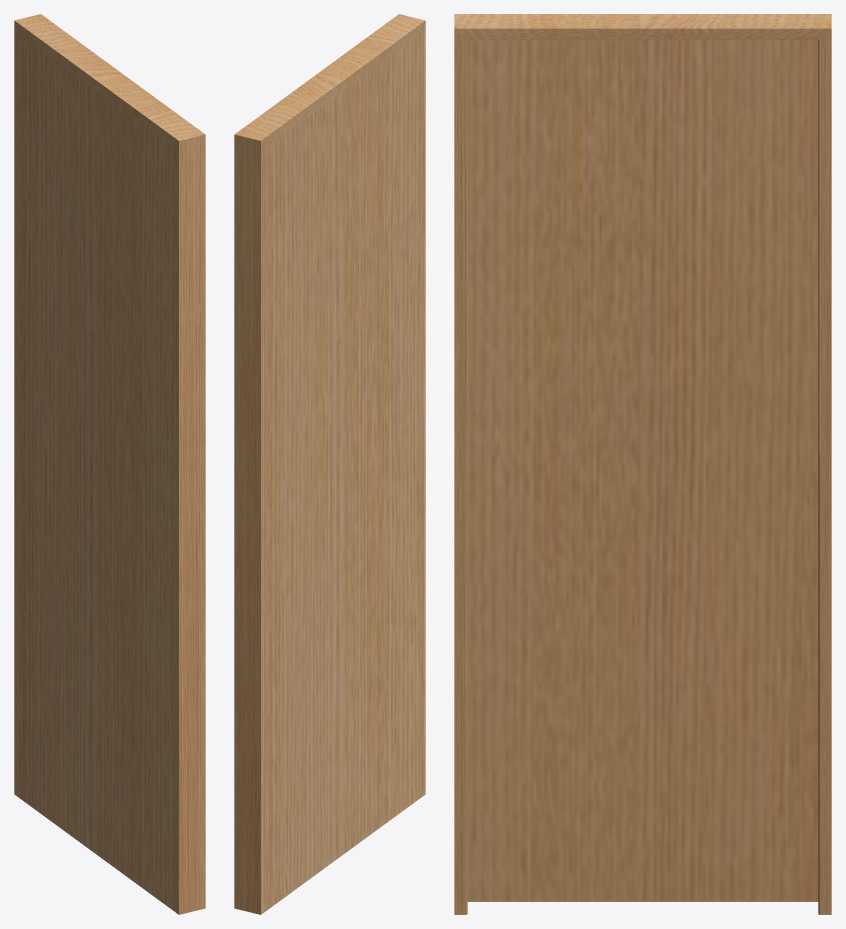
File: door2.obj
3 views of the same model, side by side, from view 1: azimuth 30°, elevation 25°; view 2: azimuth 150°, elevation 25°; view 3: azimuth 270°, elevation 25° (orthographic). The views are drawn at different scales.
Visible parts, largest first — view 1: Door_Single group62 _Door_Single:pCube1, Door_Single group62 _Door_Single:pCube2, _Door_Single:pCube4 Door_Single group62, Door_Single group62 _Door_Single:pCube3; view 2: Door_Single group62 _Door_Single:pCube1, Door_Single group62 _Door_Single:pCube3, _Door_Single:pCube4 Door_Single group62, Door_Single group62 _Door_Single:pCube2; view 3: Door_Single group62 _Door_Single:pCube1, Door_Single group62 _Door_Single:pCube3, Door_Single group62 _Door_Single:pCube2, _Door_Single:pCube4 Door_Single group62.
Part boxes in pixels (x1,y1,x2,y2): Door_Single group62 _Door_Single:pCube1: (20,35,173,910); Door_Single group62 _Door_Single:pCube2: (173,134,205,914); _Door_Single:pCube4 Door_Single group62: (14,14,205,146); Door_Single group62 _Door_Single:pCube3: (14,21,19,798); Door_Single group62 _Door_Single:pCube1: (266,35,419,910); Door_Single group62 _Door_Single:pCube3: (234,134,266,914); _Door_Single:pCube4 Door_Single group62: (234,14,425,146); Door_Single group62 _Door_Single:pCube2: (420,21,425,798); Door_Single group62 _Door_Single:pCube1: (467,40,818,901); Door_Single group62 _Door_Single:pCube3: (818,29,831,914); Door_Single group62 _Door_Single:pCube2: (454,29,467,914); _Door_Single:pCube4 Door_Single group62: (454,14,831,39).
Bounding box in the file's own units: 8 × 223 × 86.
